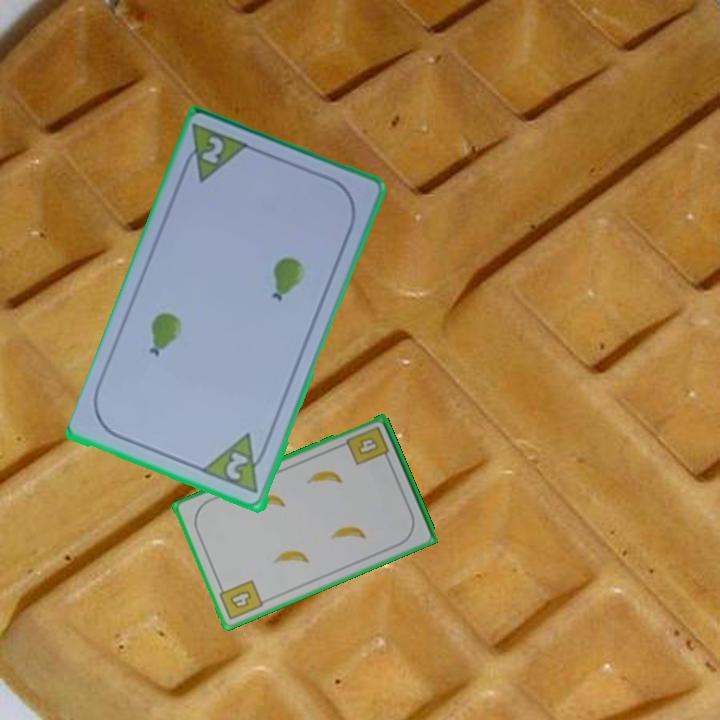2p: (198, 132, 227, 168), (222, 449, 251, 484)
4b: (215, 576, 266, 623), (343, 423, 393, 469)
